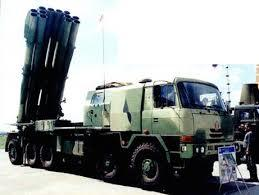MIL_SAM_TEL: (8, 6, 230, 189)
